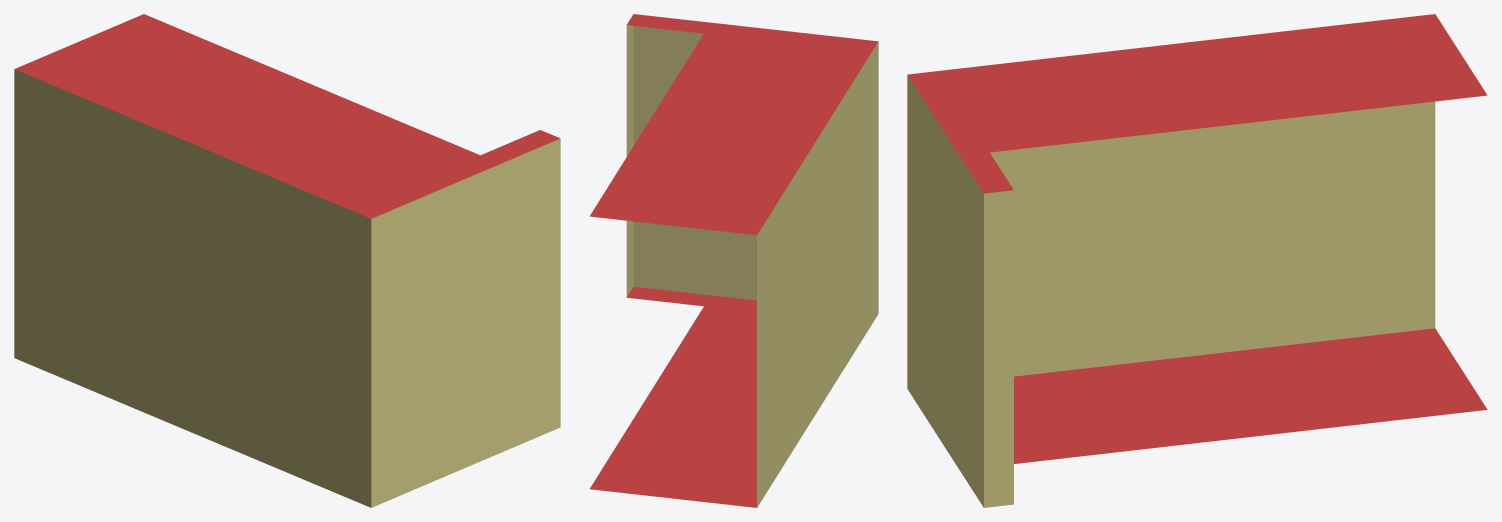
3 renders of one model, left to right at view 1: azimuth 30°, elevation 25°; view 2: azimuth 150°, elevation 25°; view 3: azimuth 270°, elevation 25°, orthographic. The views are drawn at different scales.
Size of the model in its own units: 6.83 by 9.32 by 5.57.
